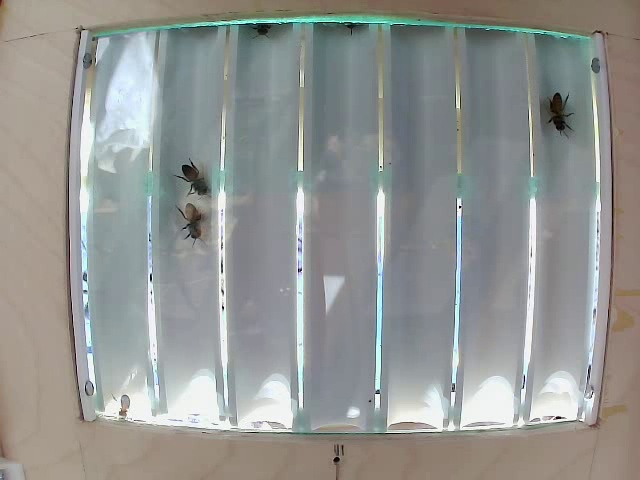bee: (164, 197, 213, 240), (541, 88, 574, 145), (183, 150, 220, 192)
